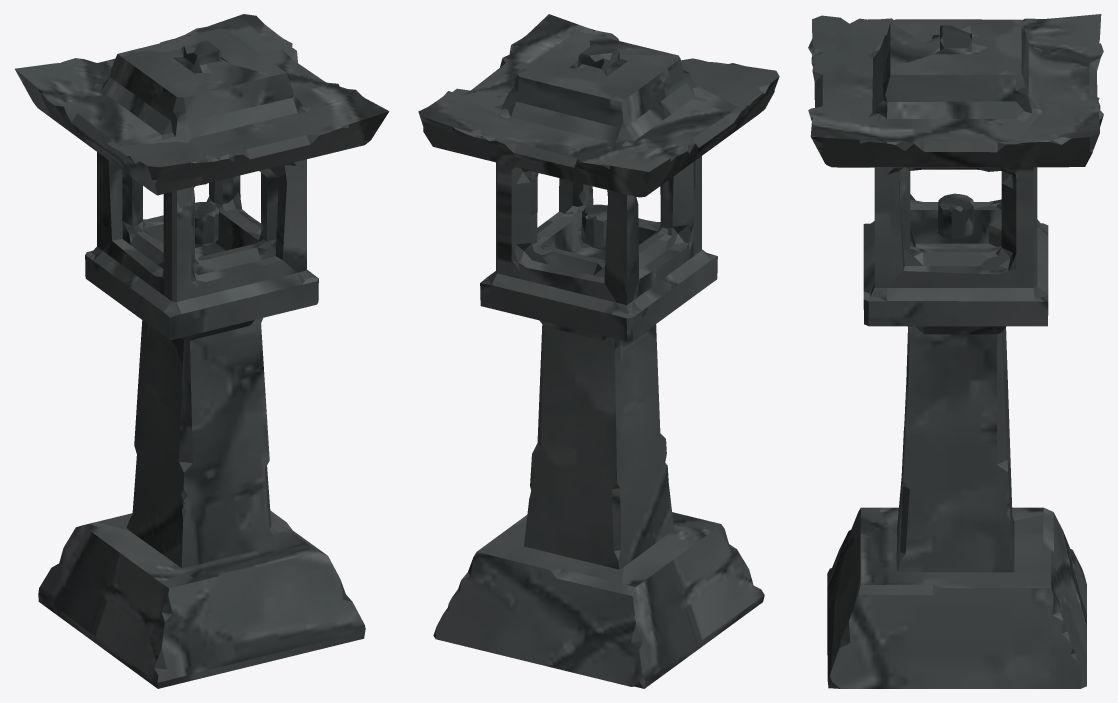
Rendered from lantern1.fbx.
3 renders of one model, left to right at view 1: azimuth 30°, elevation 25°; view 2: azimuth 150°, elevation 25°; view 3: azimuth 270°, elevation 25°, orthographic. The views are drawn at different scales.
Parts seen in each view (by area): view 1: 路灯.001; view 2: 路灯.001; view 3: 路灯.001.
Part boxes in pixels (bbox=[...]): 路灯.001: bbox=[15, 14, 389, 688]; 路灯.001: bbox=[418, 14, 779, 688]; 路灯.001: bbox=[808, 14, 1103, 688].
Bounding box in the file's own units: 81.57 × 184 × 81.62.
